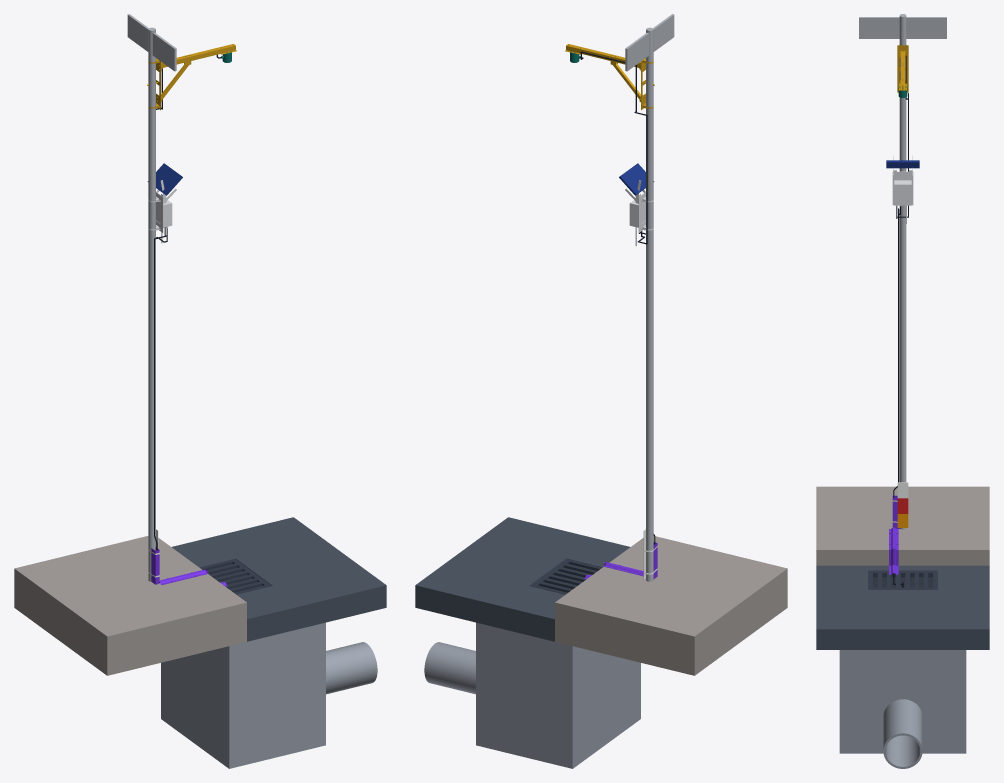
3 renders of one model, left to right at view 1: azimuth 30°, elevation 25°; view 2: azimuth 150°, elevation 25°; view 3: azimuth 270°, elevation 25°, orthographic. The views are drawn at different scales.
Visible parts, largest first — view 1: Existing curb and sidewalk, Existing catch basin and outlet pipe, Existing road slab and gutter, Existing street pole, 60 mm, Existing grate, Sensor arm, knee brace and pole bracket, FieldNode core (enclosure, LiFePO4, LoRaWAN); view 2: Existing curb and sidewalk, Existing catch basin and outlet pipe, Existing road slab and gutter, Existing street pole, 60 mm, Existing grate, Sensor arm, knee brace and pole bracket, FieldNode core (enclosure, LiFePO4, LoRaWAN); view 3: Existing road slab and gutter, Existing catch basin and outlet pipe, Existing curb and sidewalk, Existing street pole, 60 mm, Existing grate, Sensor cables, M12, FieldNode core (enclosure, LiFePO4, LoRaWAN), Surface cable covers and riser guard, Sensor arm, knee brace and pole bracket.
Part boxes in pixels (box(x1,y1,x2,y2)): Existing curb and sidewalk: box(14, 536, 246, 675); Existing catch basin and outlet pipe: box(161, 622, 377, 768); Existing road slab and gutter: box(171, 517, 386, 641); Existing street pole, 60 mm: box(127, 14, 176, 581); Existing grate: box(200, 559, 271, 594); Sensor arm, knee brace and pole bracket: box(147, 44, 236, 110); FieldNode core (enclosure, LiFePO4, LoRaWAN): box(148, 180, 176, 243); Existing curb and sidewalk: box(555, 536, 787, 675); Existing catch basin and outlet pipe: box(424, 622, 640, 768); Existing road slab and gutter: box(415, 517, 630, 641); Existing street pole, 60 mm: box(625, 14, 674, 581); Existing grate: box(530, 559, 601, 594); Sensor arm, knee brace and pole bracket: box(565, 44, 654, 110); FieldNode core (enclosure, LiFePO4, LoRaWAN): box(625, 180, 653, 246); Existing road slab and gutter: box(816, 565, 989, 649); Existing catch basin and outlet pipe: box(839, 650, 966, 768); Existing curb and sidewalk: box(816, 486, 989, 565); Existing street pole, 60 mm: box(859, 14, 946, 529); Existing grate: box(869, 571, 936, 589); Sensor cables, M12: box(893, 55, 908, 587); FieldNode core (enclosure, LiFePO4, LoRaWAN): box(892, 155, 913, 223); Surface cable covers and riser guard: box(889, 495, 900, 574); Sensor arm, knee brace and pole bracket: box(897, 45, 908, 92).
Size of the model in its own units: 2.85 by 6.45 by 1.5.
